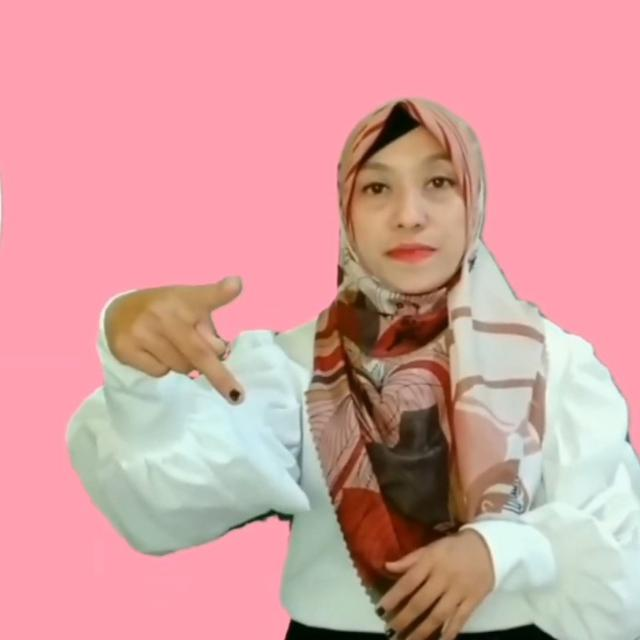P: (105, 274, 262, 416)
